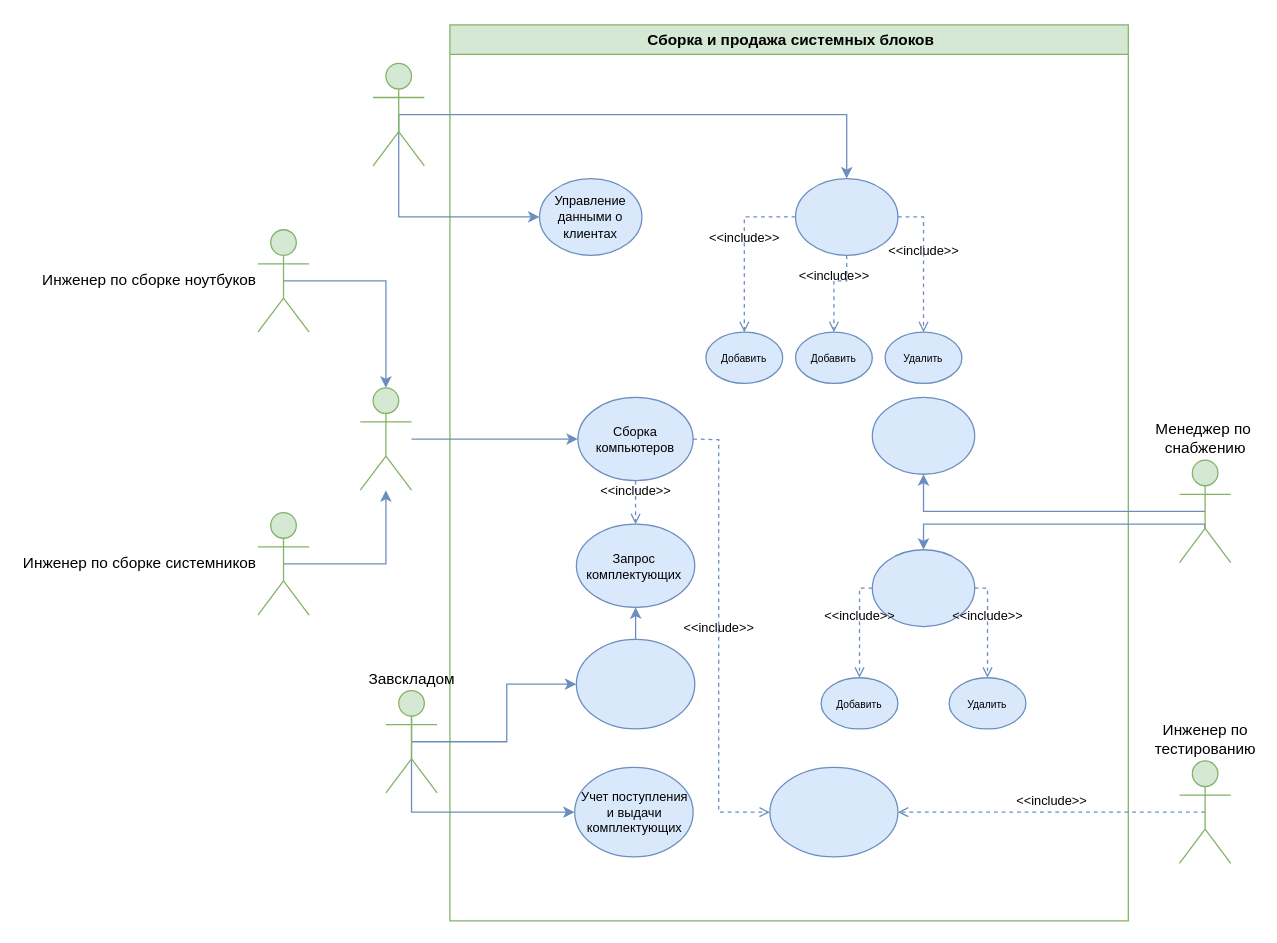
The diagram is 1277 pixels wide and 943 high, and some of its shapes have lost their labels. The centre of each missing label's shape, as x and y in pixels:
"Выбор поставщика" belongs at pixel 923 587.
"Выдача запчастей со склада" belongs at pixel 635 683.
"Инженер по сборке" belongs at pixel 385 438.
"Менеджер по работе с клиентами" belongs at pixel 398 114.
"Отправка товара на склад" belongs at pixel 923 435.
"Тест пк" belongs at pixel 833 811.
"Управление заказами" belongs at pixel 846 216.
